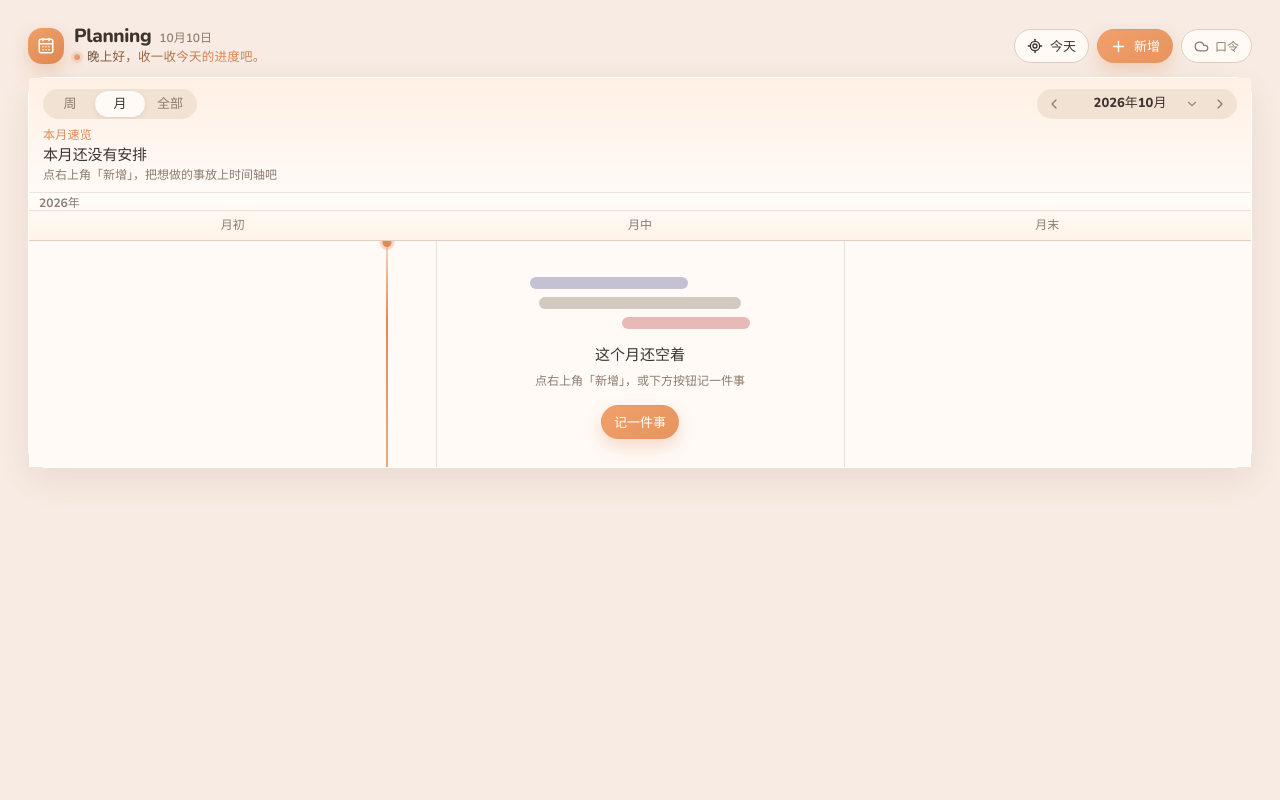
Test: Planning › can jump to a month from the month picker
Click the button named "选择月份" at (1137,104), box x1=1069 y1=91 x2=1205 y2=117
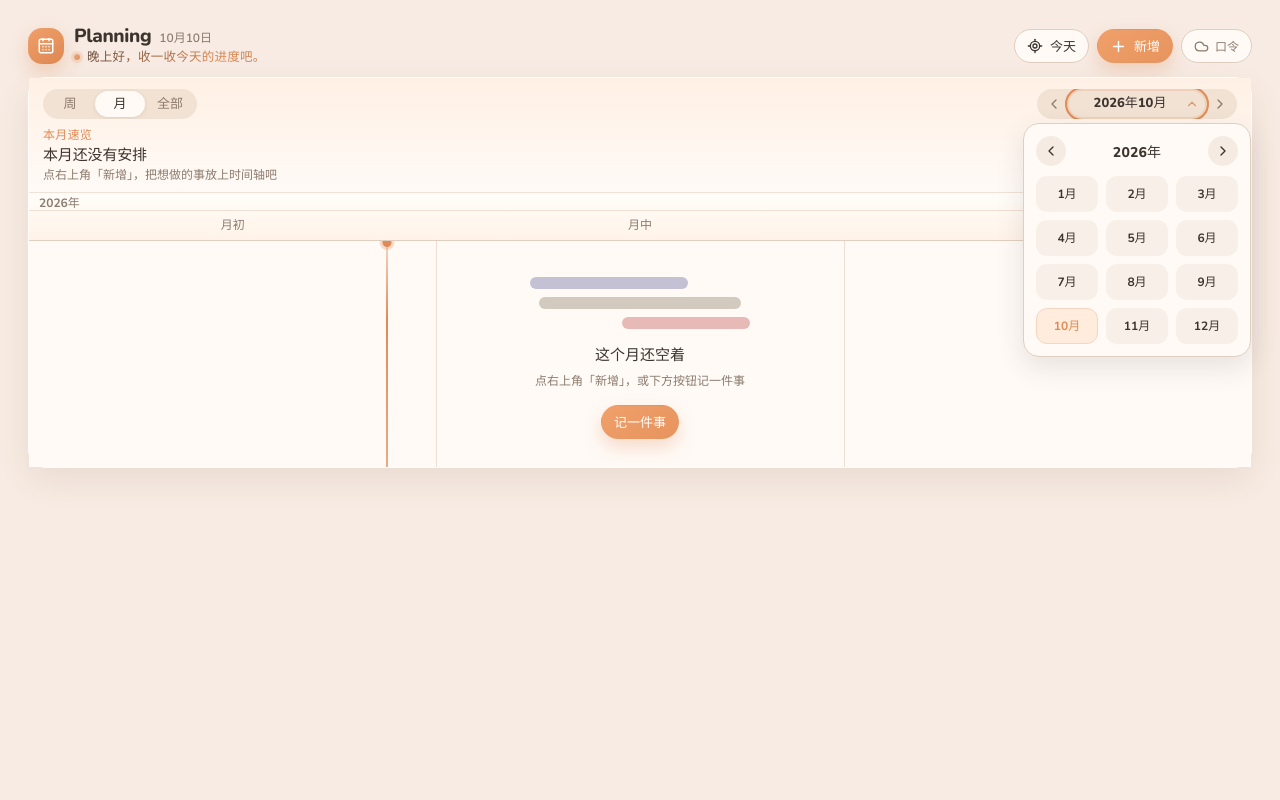
Expected: the dialog named "选择月份" is shown, x1=1023 y1=123 x2=1251 y2=357
Click the button named "下一年" at (1223,151), box x1=1208 y1=136 x2=1238 y2=166
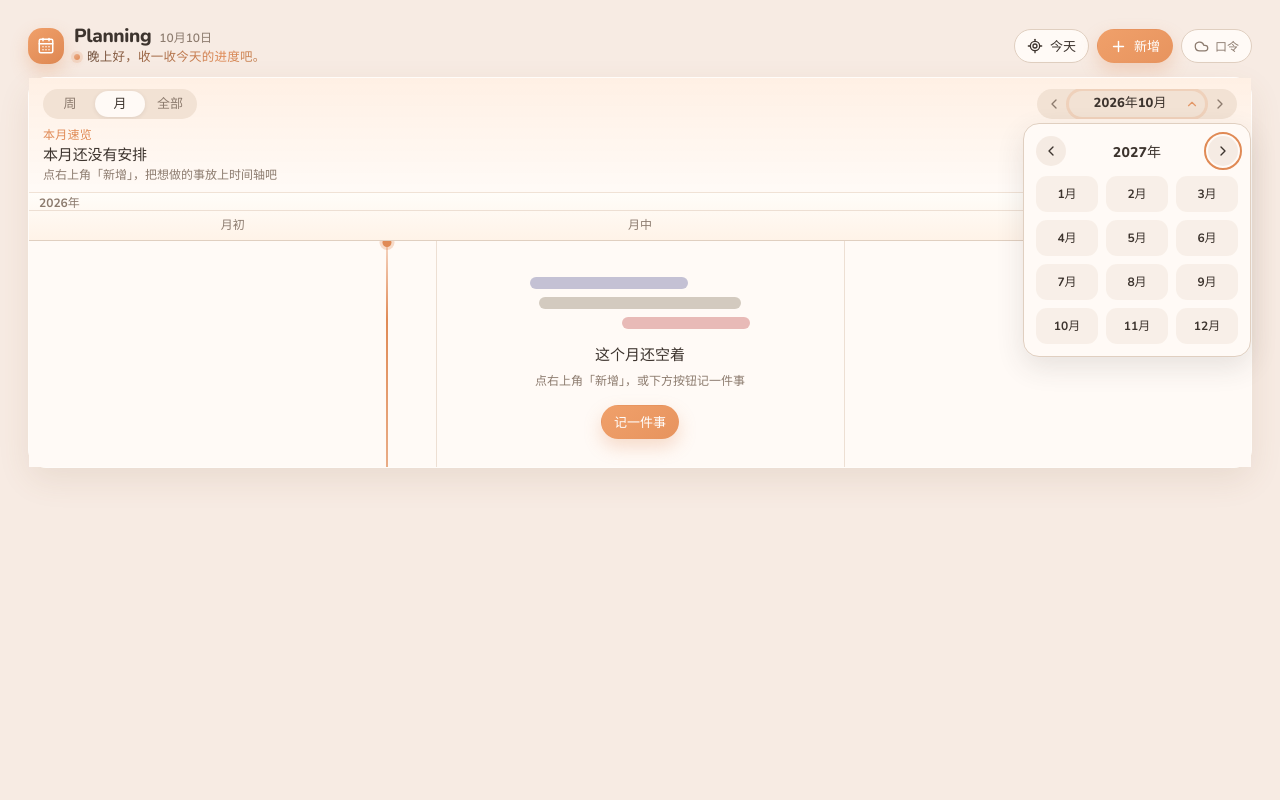
Click the button "3月" at (1207,194), box x1=1176 y1=176 x2=1238 y2=212
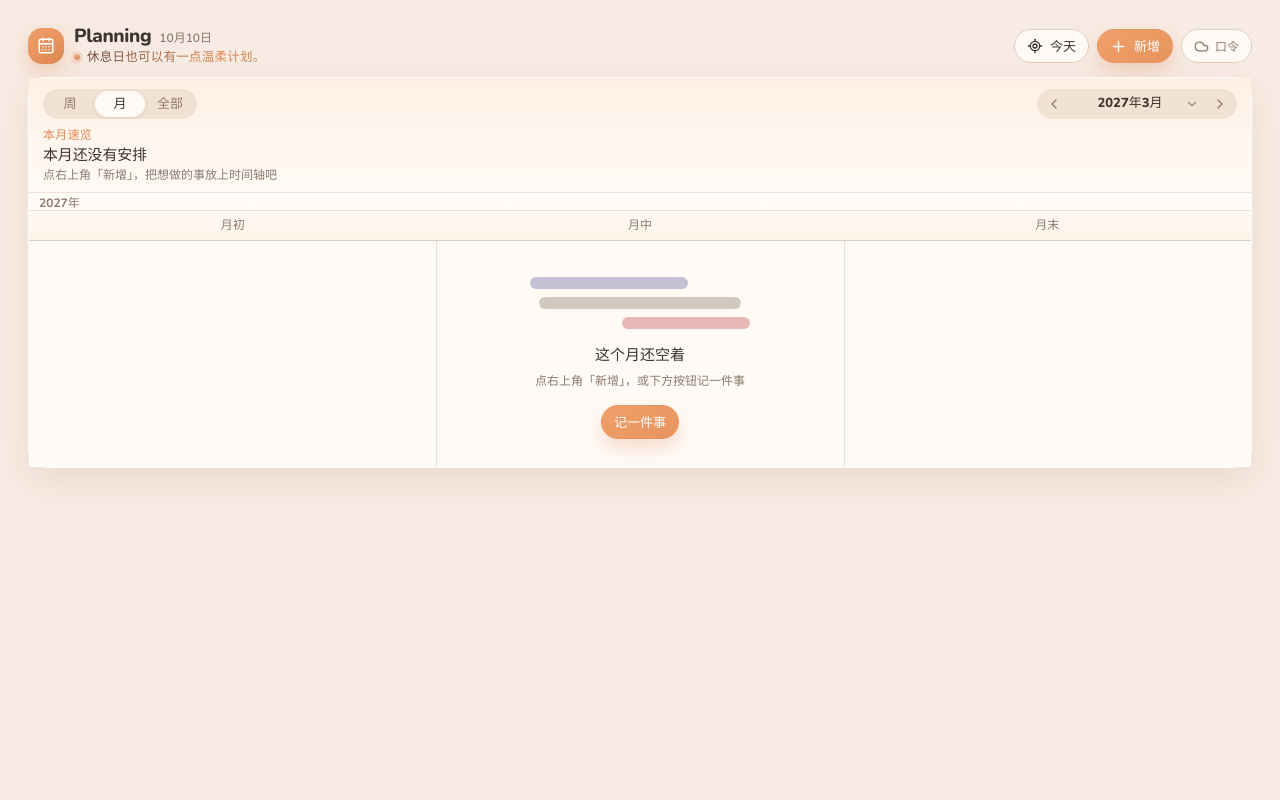
Expected: the dialog "2027年 1月 2月 3月 4月 5月 6月 7月 8月 9月 10月 11月 12月" is gone
